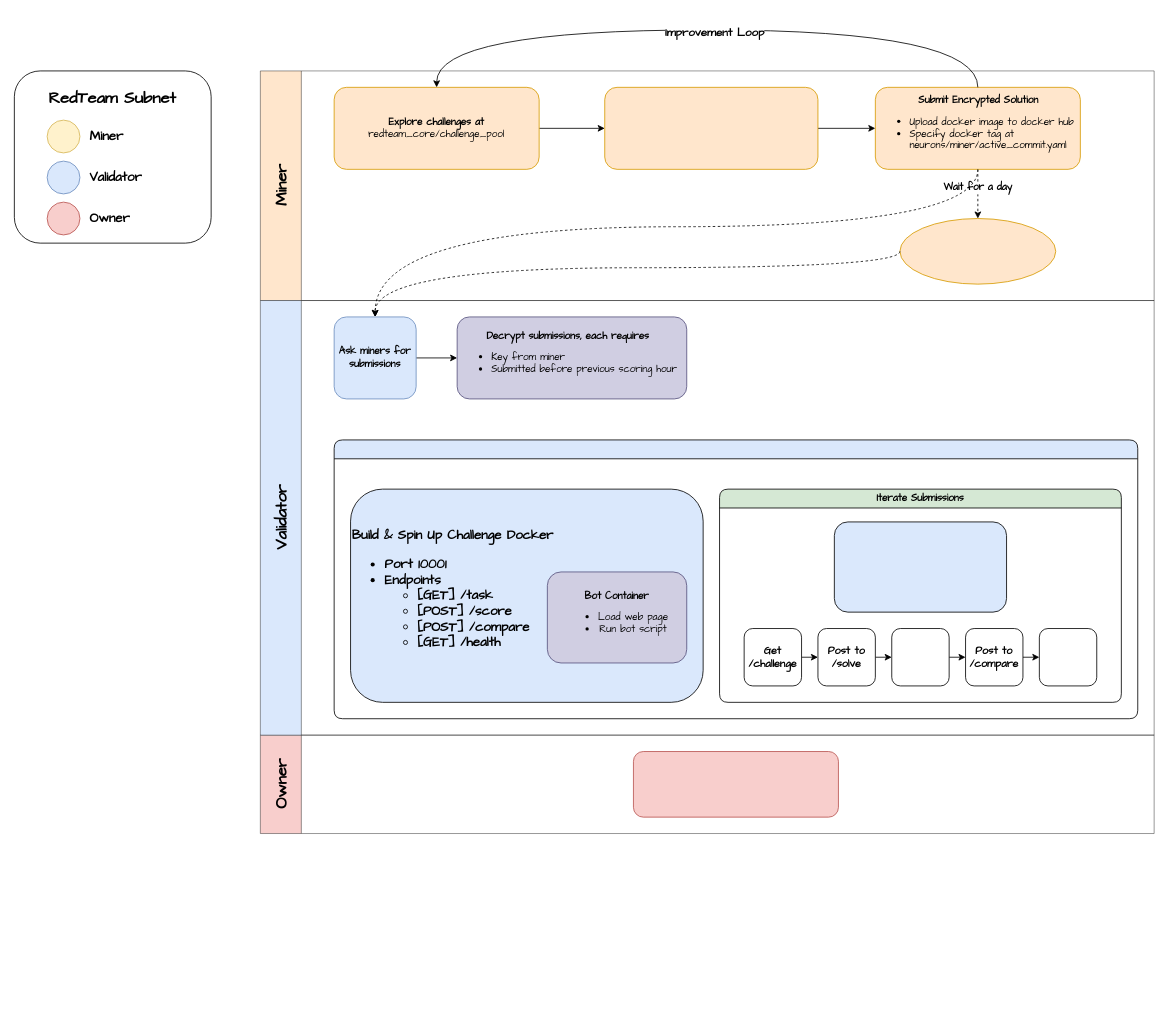
Image size: 1169x1028. Some labels were removed from this diagram. The box of each missing label's shape, as (x1, y1, x2, y2) in pixels:
Add Challenges: (633, 751, 838, 817)
Build Solution Dockerized Follow challenge 's data_types Expose app at pot 10002: (604, 87, 818, 169)
Iterate challenges: (333, 439, 1138, 719)
Post to /score: (891, 628, 949, 686)
Pull & Spin Up Submission Port 10002 Endpoints [POST] /solve [GET] /health: (834, 521, 1007, 612)
Store results: (1039, 628, 1097, 686)
Submit key to decrypt the submission: (899, 218, 1056, 284)
